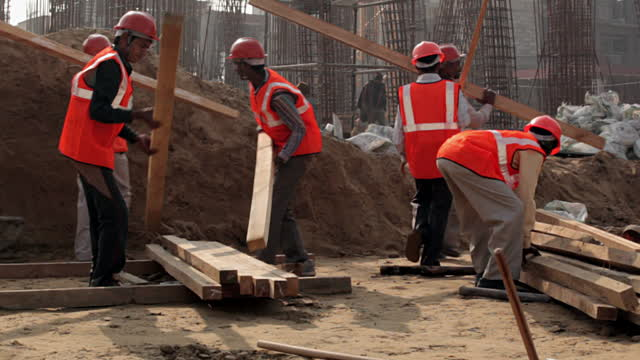SAFE: (71, 8, 160, 162), (229, 36, 323, 159), (440, 110, 563, 186), (400, 40, 440, 176)
